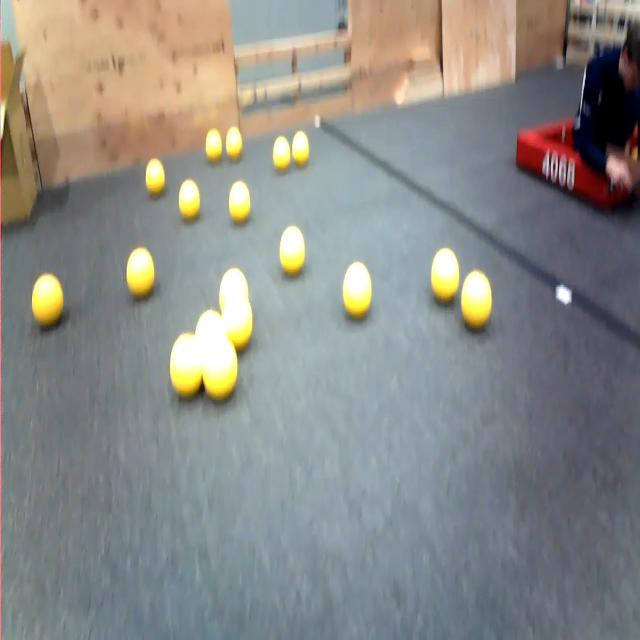Bumper: (507, 110, 640, 217)
fuel: (337, 250, 376, 328), (122, 239, 164, 306), (426, 235, 462, 307), (166, 332, 206, 395), (276, 219, 314, 285), (29, 262, 67, 328), (201, 337, 238, 402), (462, 266, 497, 334), (217, 260, 255, 318), (226, 288, 260, 352), (228, 176, 256, 240), (174, 175, 205, 228), (194, 305, 228, 342), (224, 114, 248, 164), (292, 124, 318, 170), (140, 154, 168, 196), (202, 120, 226, 167), (271, 128, 295, 174)
